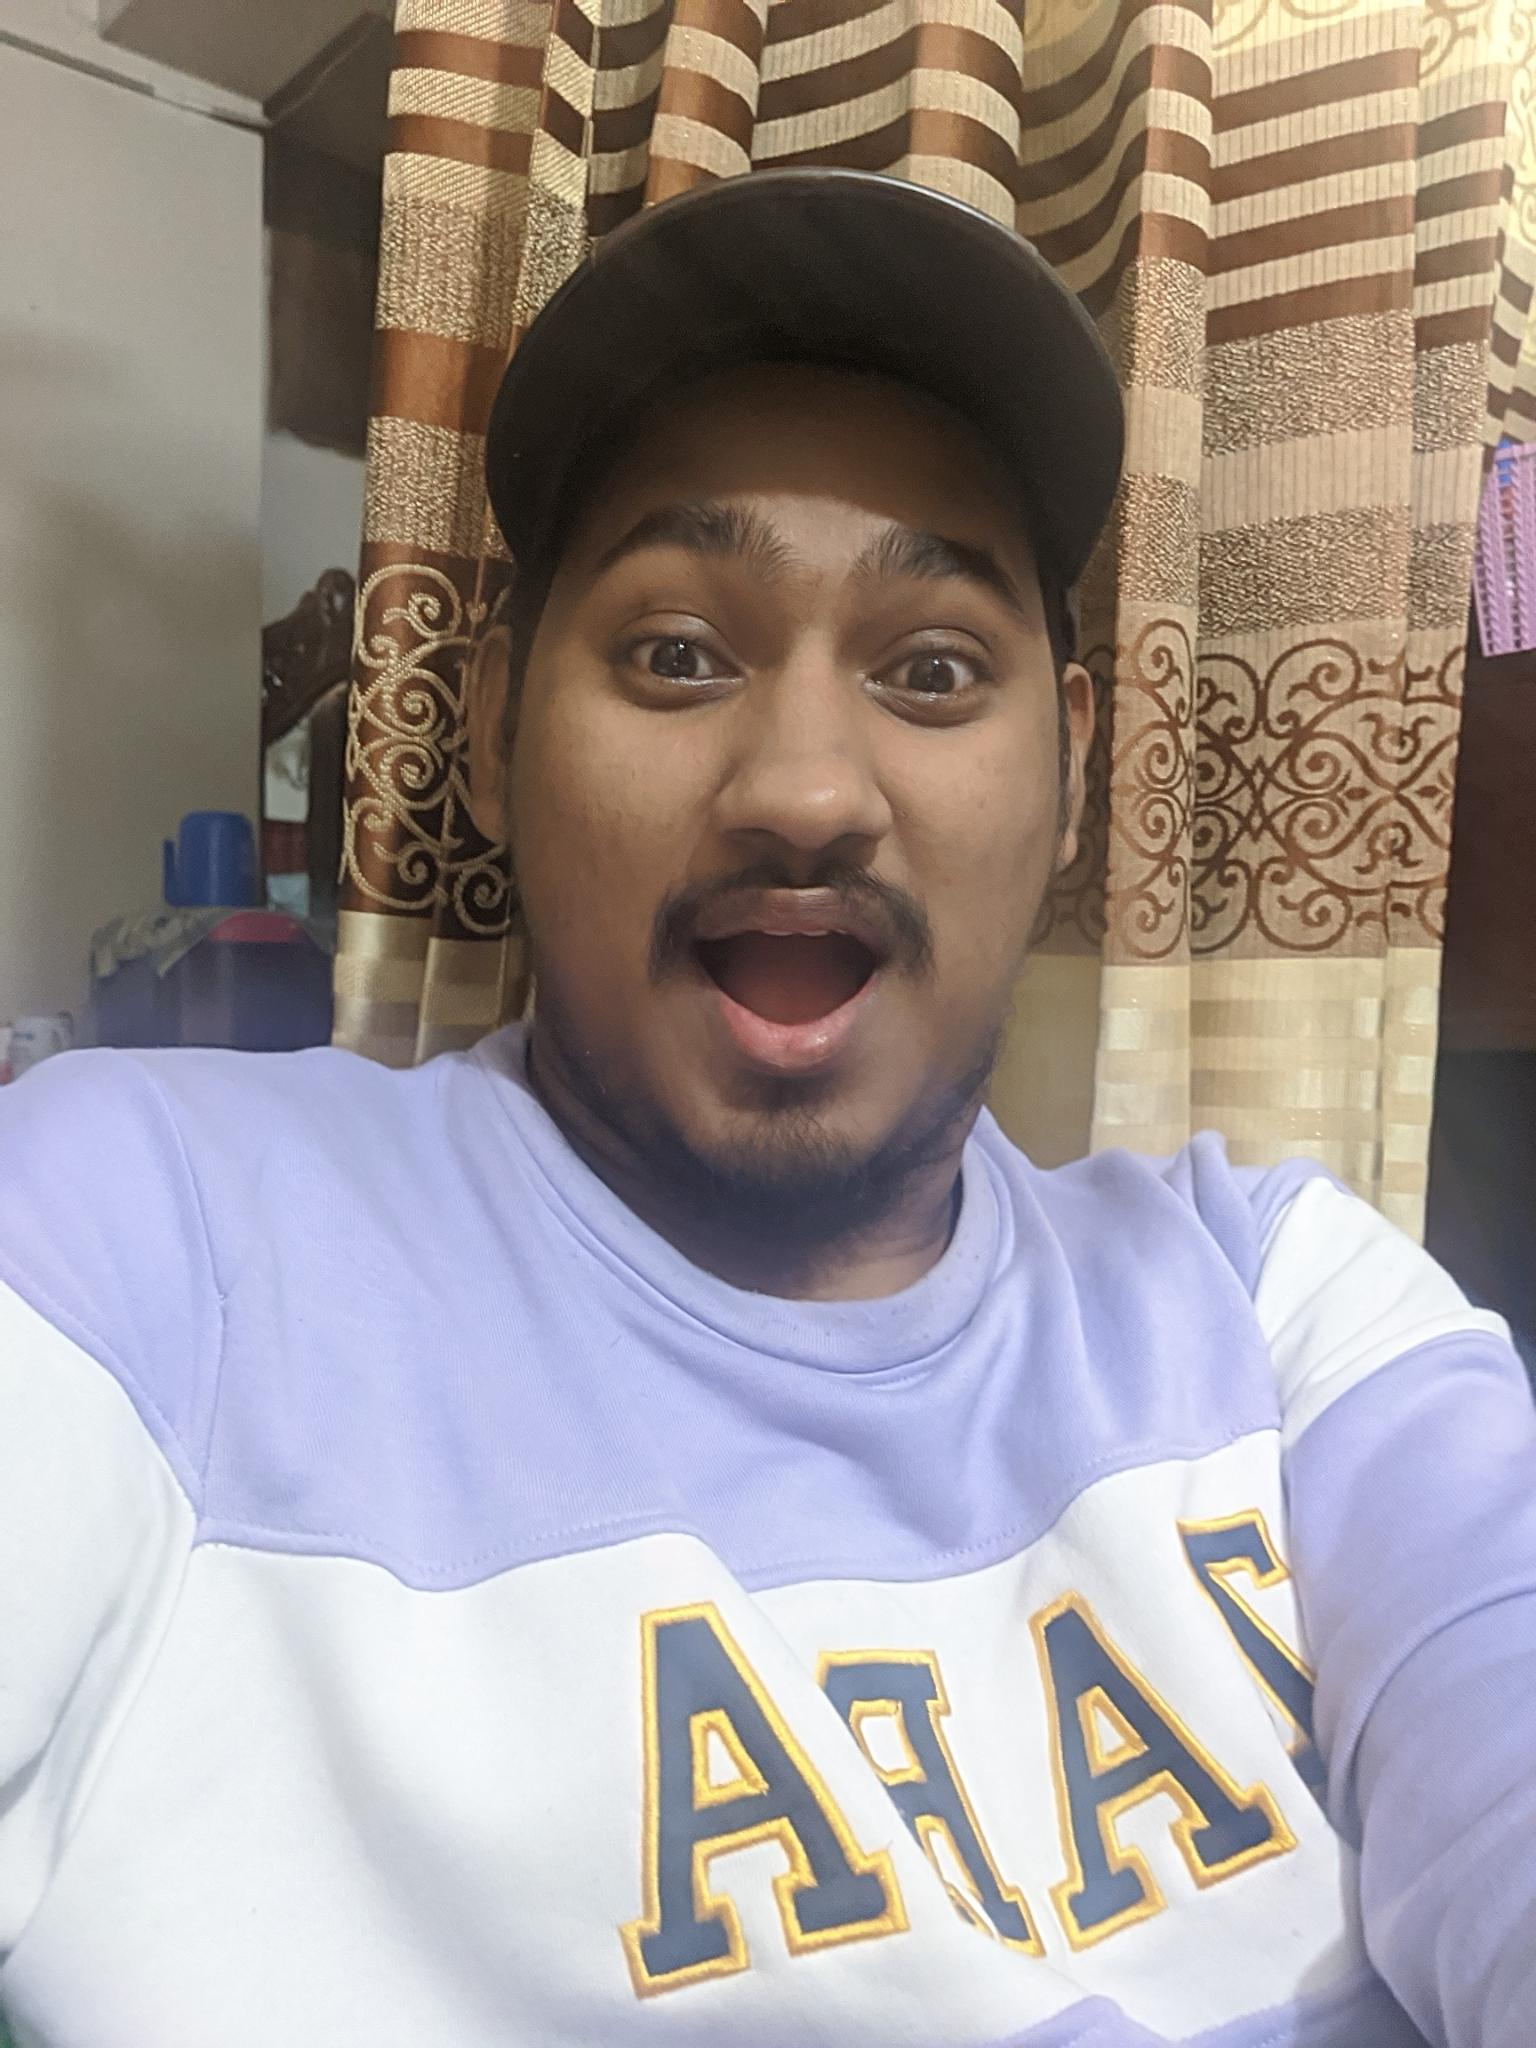Surprise: (547, 445, 1041, 1208)
